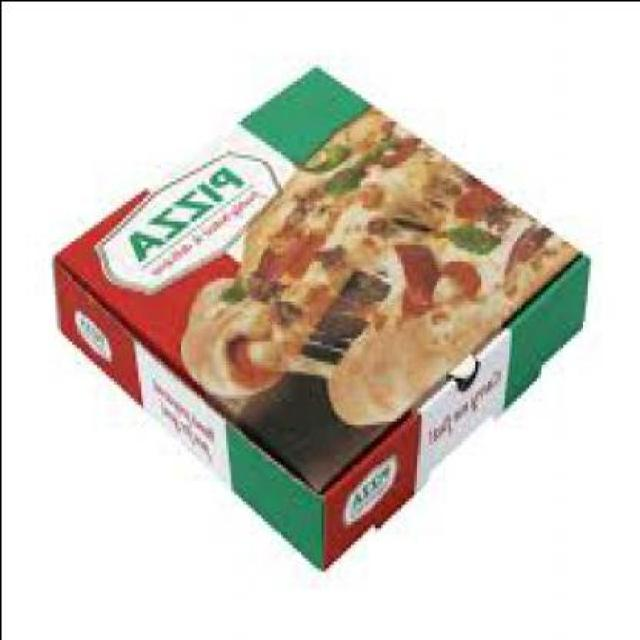CARDBOARD: (53, 59, 592, 567)
